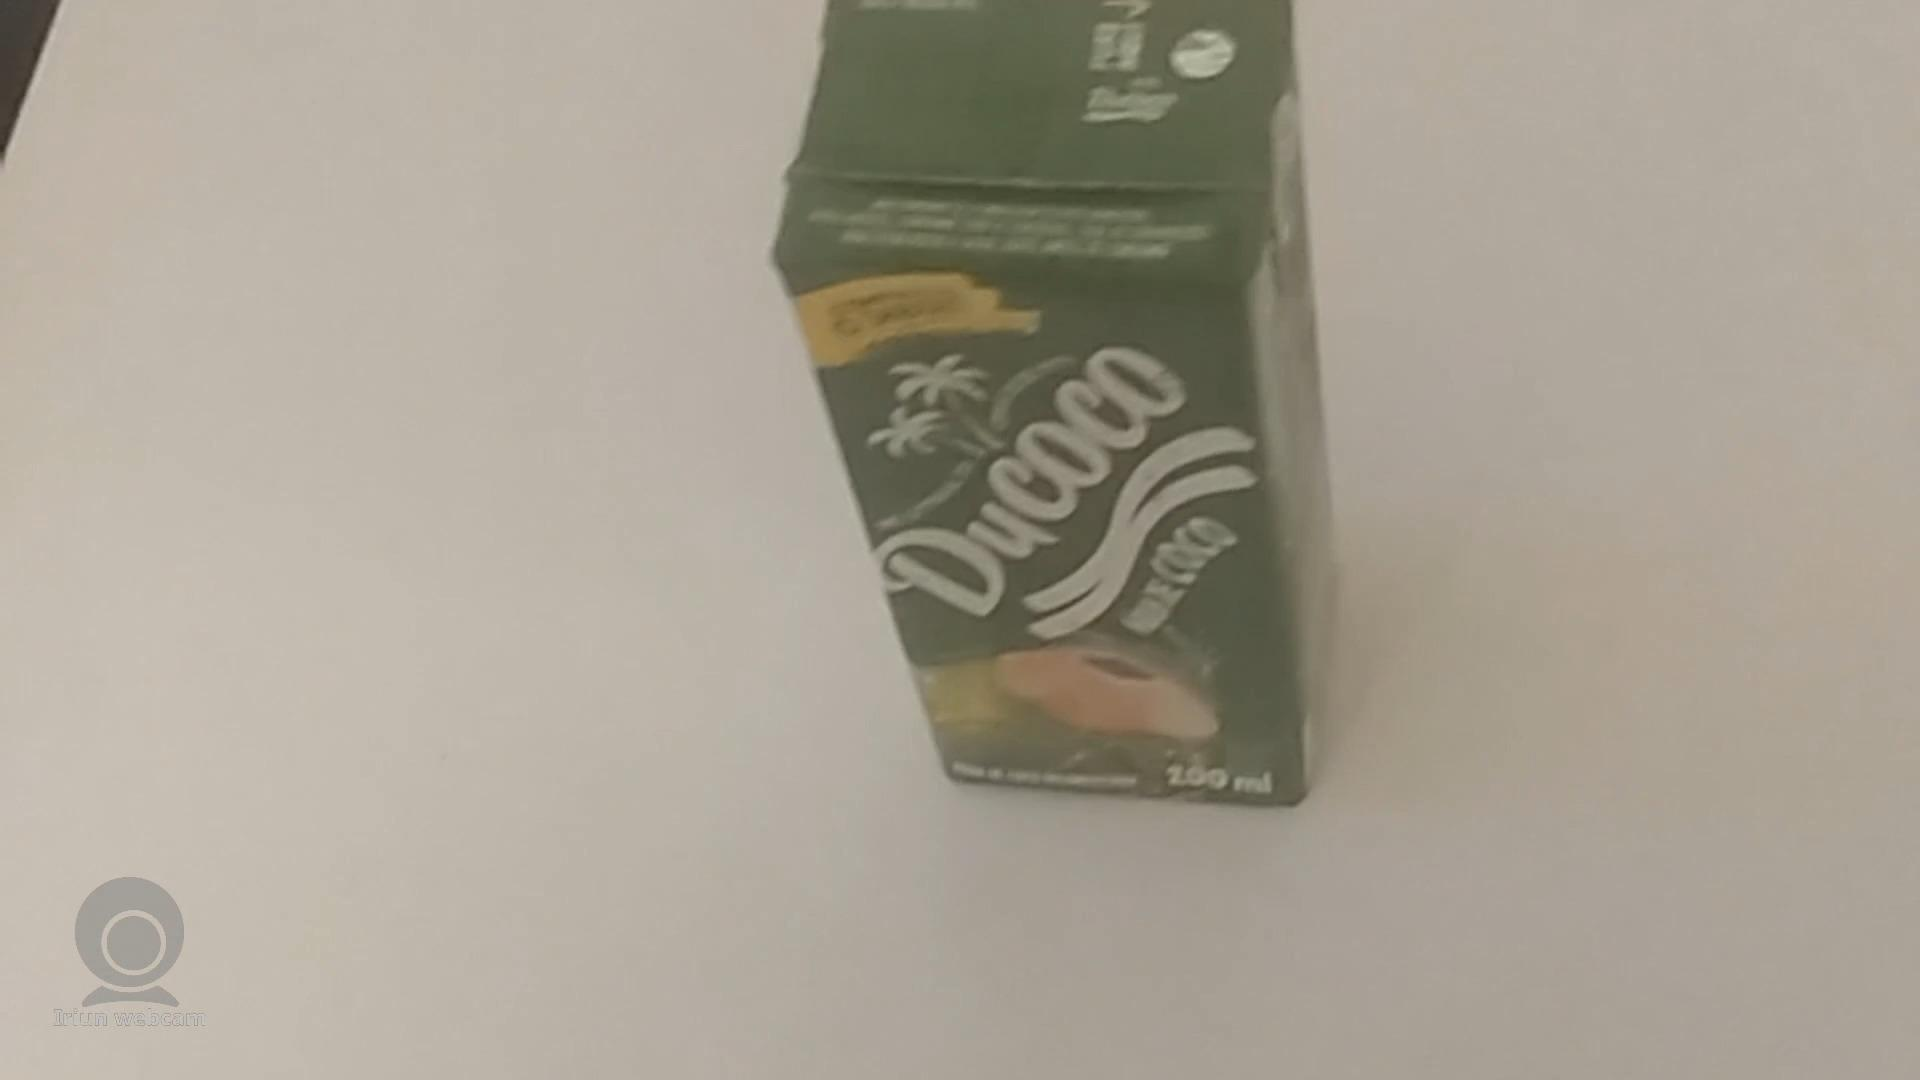coco: (767, 0, 1324, 816)
